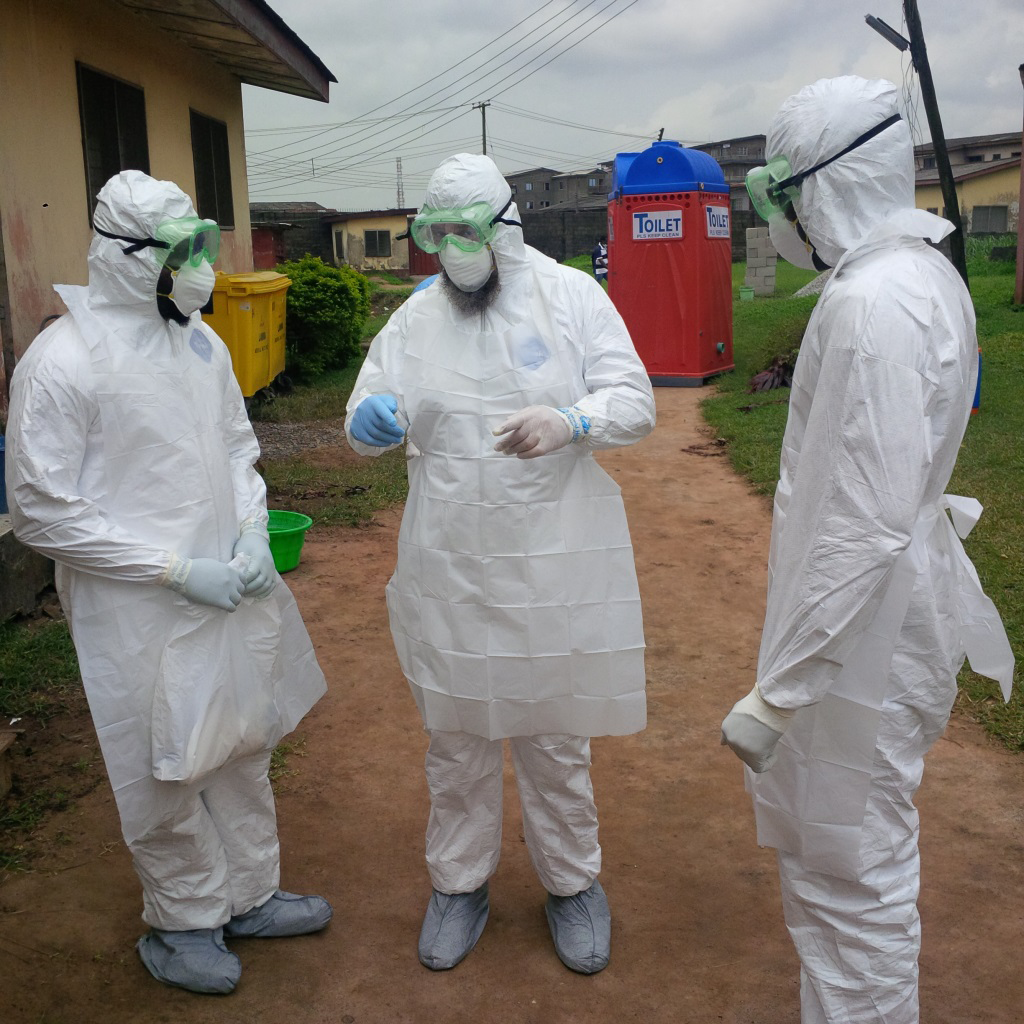Coverall: (13, 168, 324, 907), (350, 173, 645, 904), (770, 77, 980, 1024)
Gloves: (717, 675, 809, 778), (488, 402, 590, 465), (157, 548, 241, 615), (345, 394, 406, 451), (231, 524, 276, 601)
Goggles: (405, 199, 499, 255), (741, 155, 817, 222), (150, 211, 226, 264)
with_mask: (765, 204, 849, 277), (152, 245, 217, 320), (431, 233, 504, 296)
